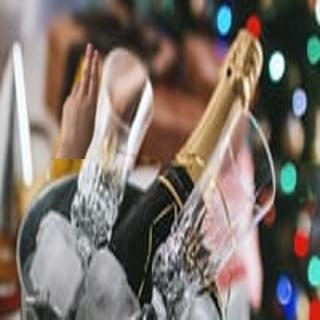DHAVE: (56, 39, 102, 153)
